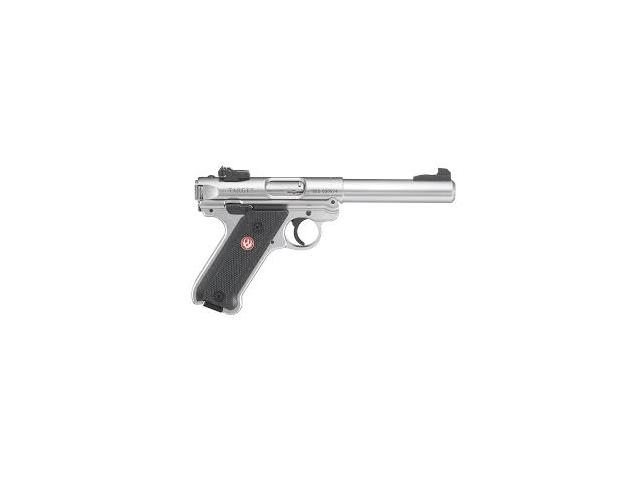pistol: (186, 165, 457, 318)
